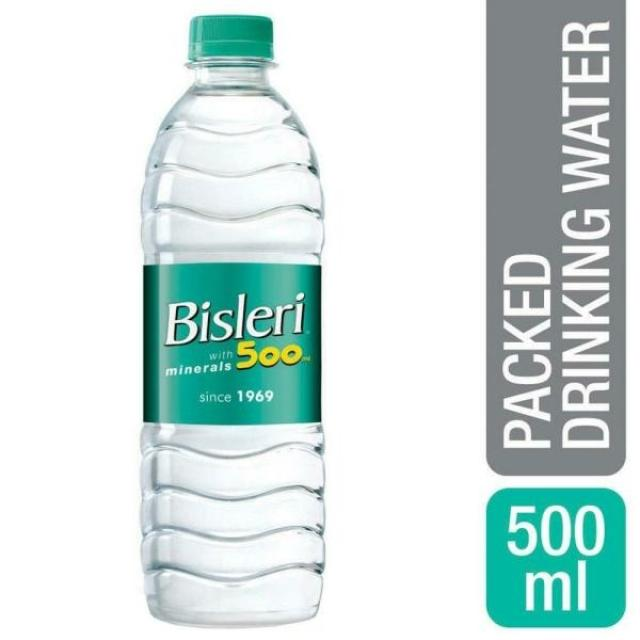bottle: (117, 0, 414, 640)
